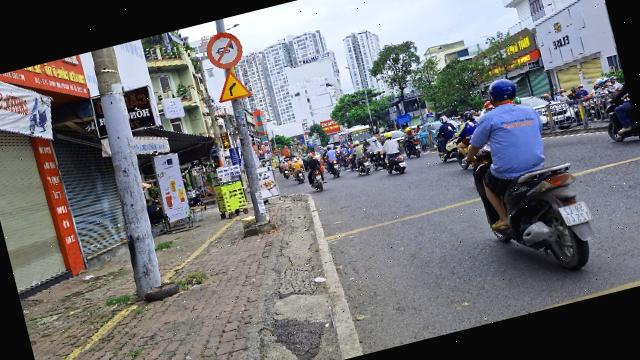cam-bop-coi: (202, 28, 246, 73)
cho-ngoat-nguy-hiem-ben-trai: (212, 66, 252, 103)
